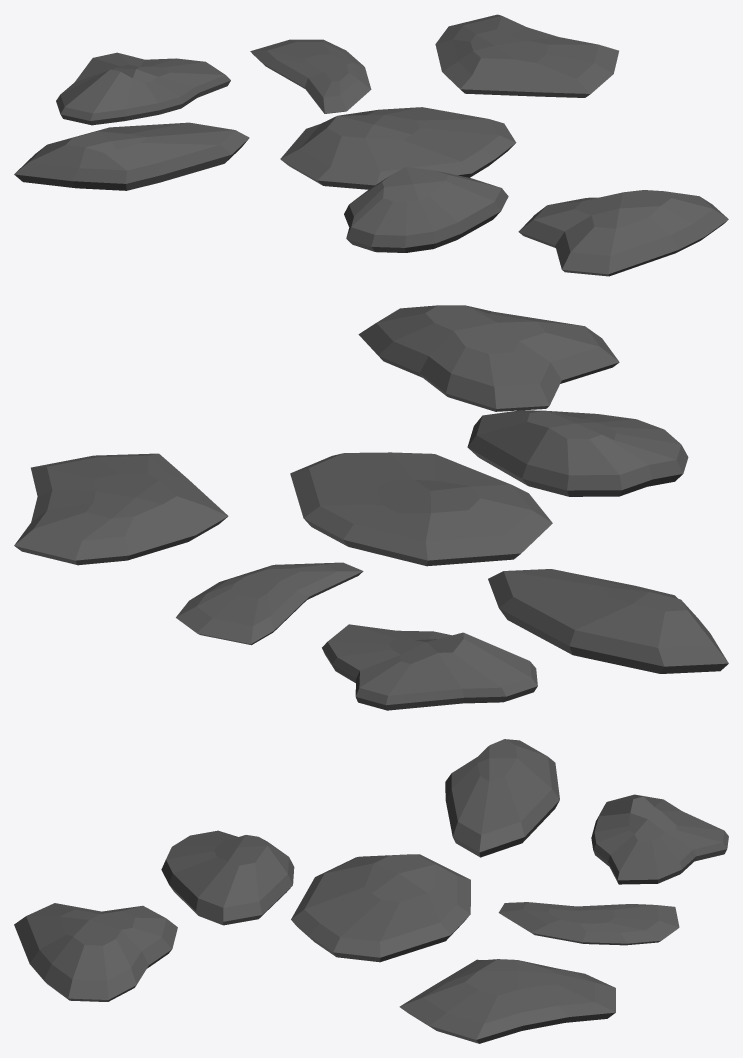
The model's file is palmrock7.glb.
3 renders of one model, top to bottom at view 1: azimuth 30°, elevation 25°; view 2: azimuth 150°, elevation 25°; view 3: azimuth 270°, elevation 25°, orthographic. The views are drawn at different scales.
Visible parts, largest first — view 1: Rock8; view 2: Rock8; view 3: Rock8.
Part boxes in pixels (x1,y1,x2,y2): Rock8: [14, 14, 728, 276]; Rock8: [14, 305, 728, 710]; Rock8: [14, 739, 728, 1043].
Bounding box in the file's own units: 1.11 × 0.076 × 1.14.
Materials: 1 (1 with a texture image).
